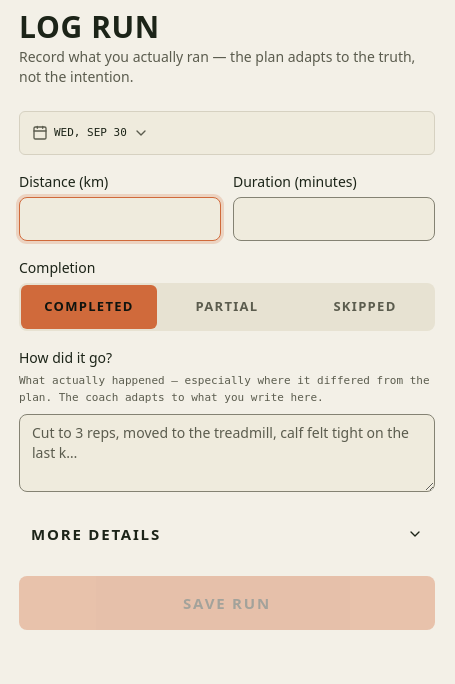
Test: LogPage › shows the live pace preview once distance and duration are filled (5 km / 30 min -> 06:00/km)
Type "5" into the field labelled "Distance (km)" at (120, 219), box [19,197,221,241]
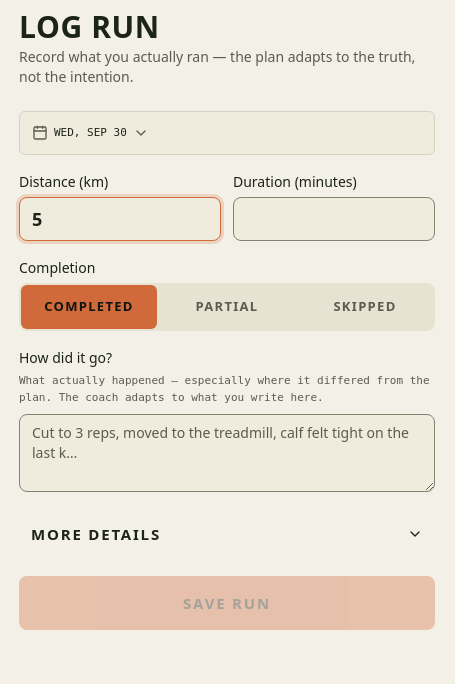
Type "30" into the field labelled "Duration (minutes)" at (334, 219), box [233,197,435,241]
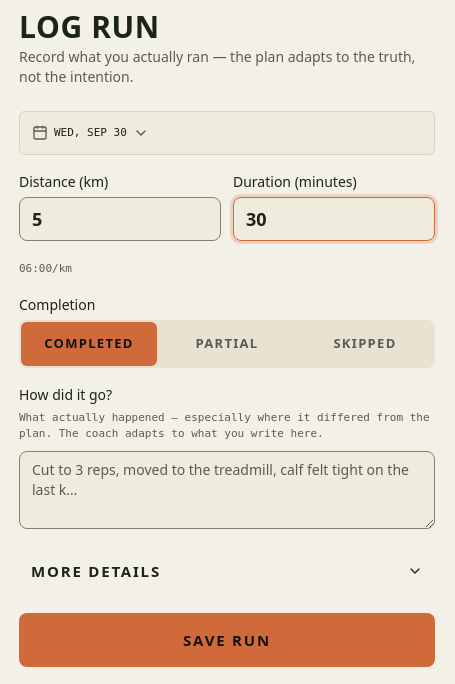
Result: the text with test id "log-derived-pace" reads "06:00/km" at [19,262,72,275]
